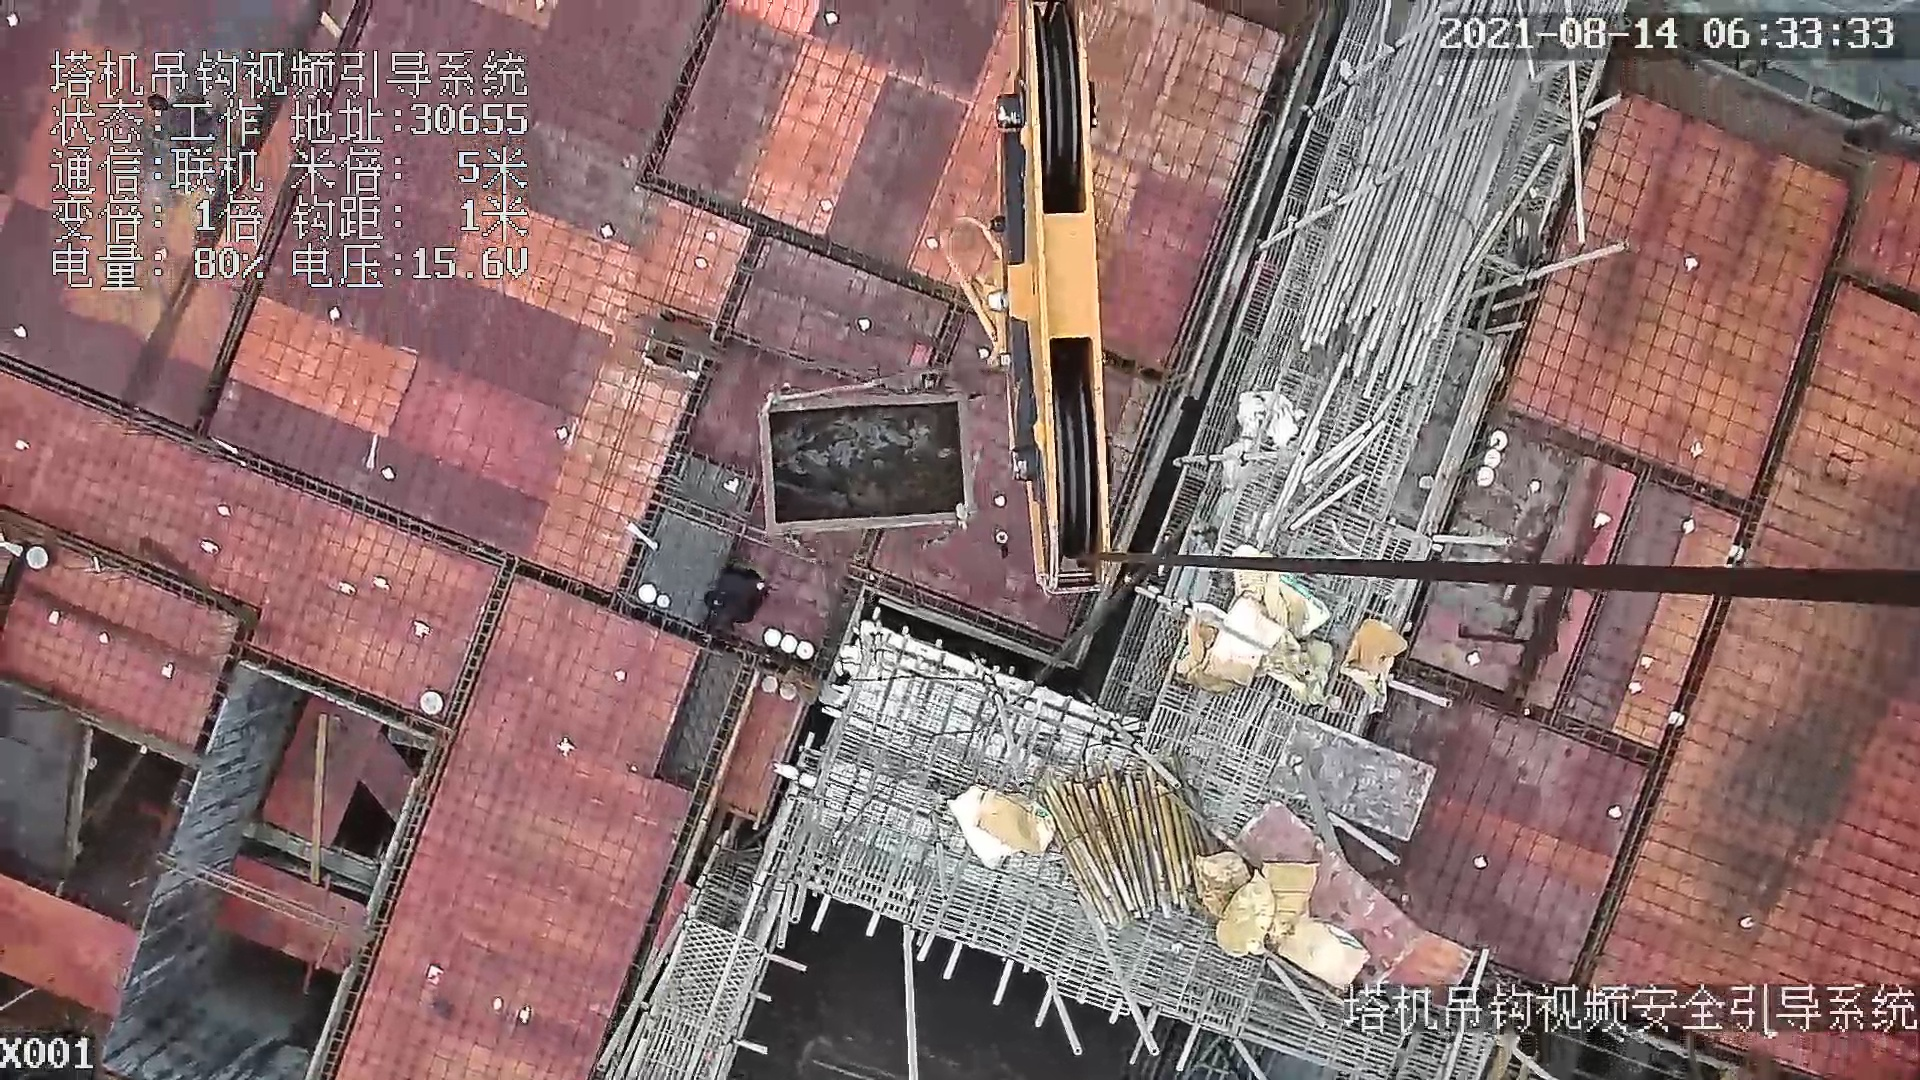hook: (937, 1, 1120, 596)
hopper: (751, 360, 978, 559)
person: (699, 562, 769, 642)
scaffold: (1305, 1, 1504, 403), (1047, 758, 1209, 927)
